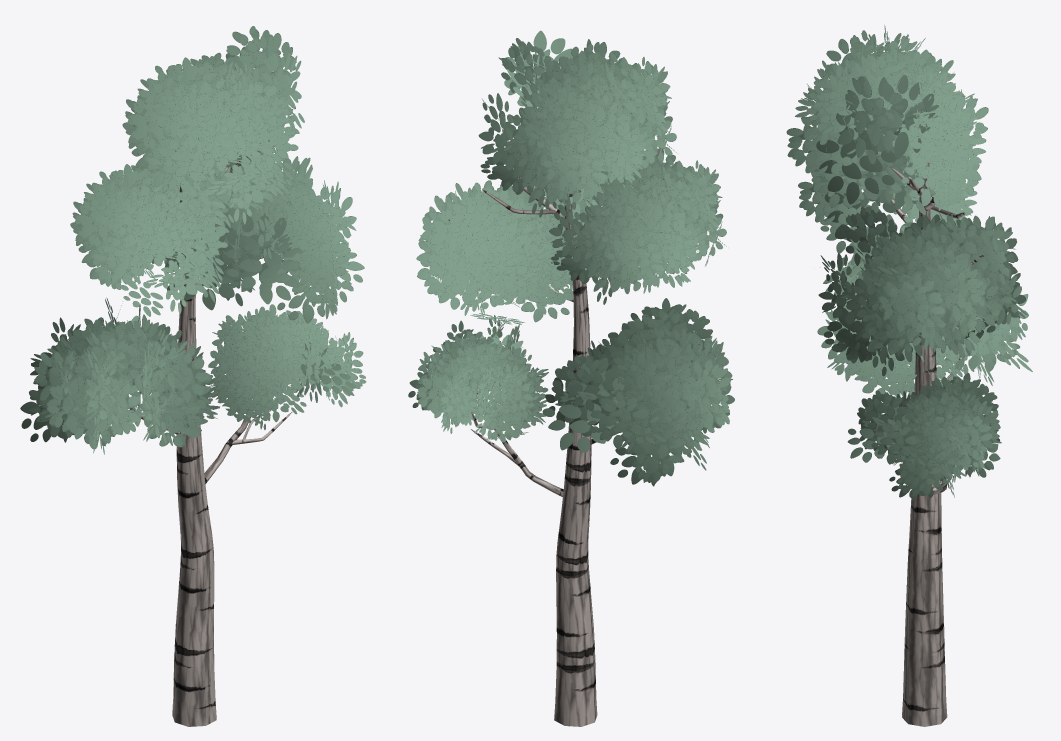
File: BirchTree_1.glb
The picture shows the model from 3 angles, left to right: view 1: azimuth 30°, elevation 25°; view 2: azimuth 150°, elevation 25°; view 3: azimuth 270°, elevation 25°; orthographic projection. The views are drawn at different scales.
Visible parts, largest first — view 1: BirchTree_1; view 2: BirchTree_1; view 3: BirchTree_1.
Part boxes in pixels (x1=…): BirchTree_1: x1=20, y1=26, x2=366, y2=726; BirchTree_1: x1=408, y1=30, x2=734, y2=726; BirchTree_1: x1=786, y1=25, x2=1032, y2=726.
Bounding box in the file's own units: 2.71 × 5.45 × 1.94.
Materials: 2 (2 with a texture image).
